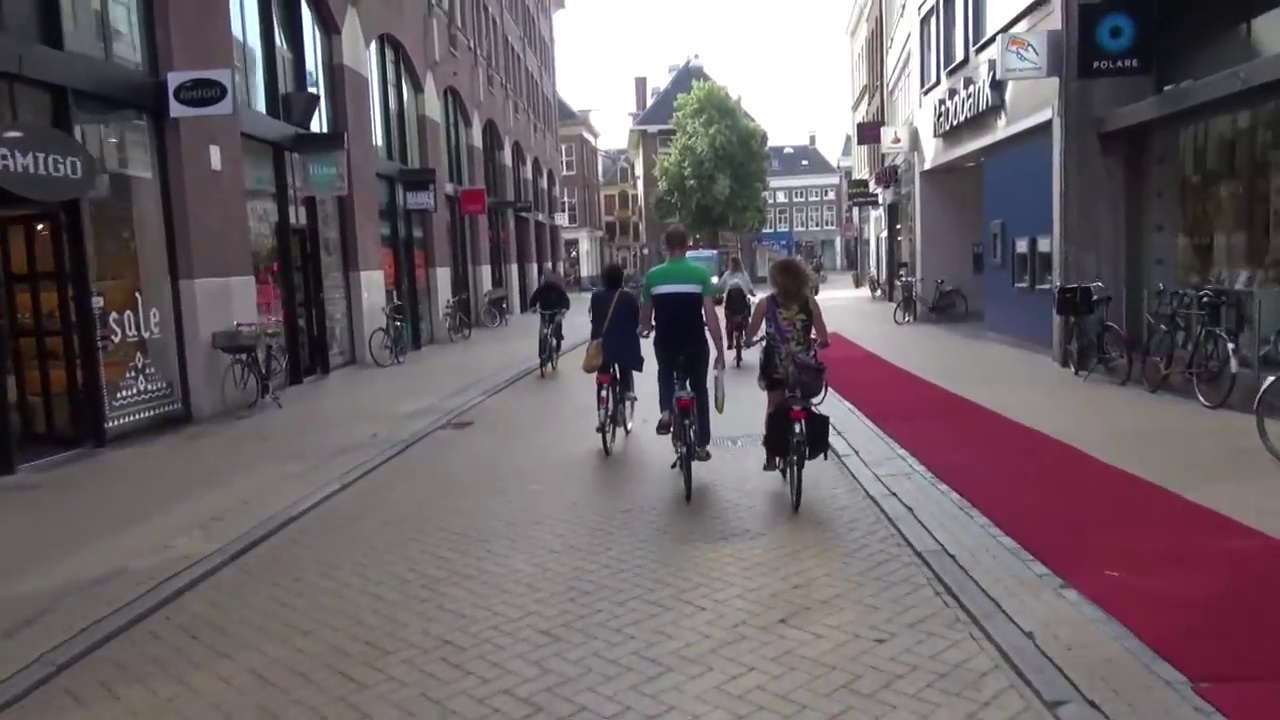cyclist_back: (639, 223, 728, 504), (753, 256, 839, 520), (587, 251, 652, 468), (713, 247, 760, 377)
cyclist_front: (530, 259, 571, 382)
